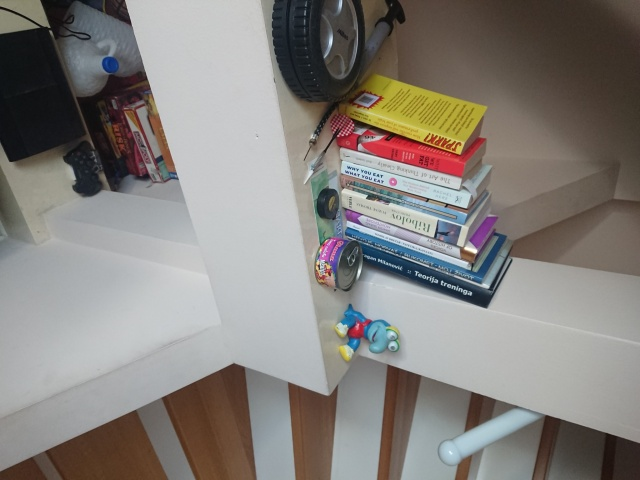Giana Tuna Salad Mexico 185g: (312, 235, 366, 294)
